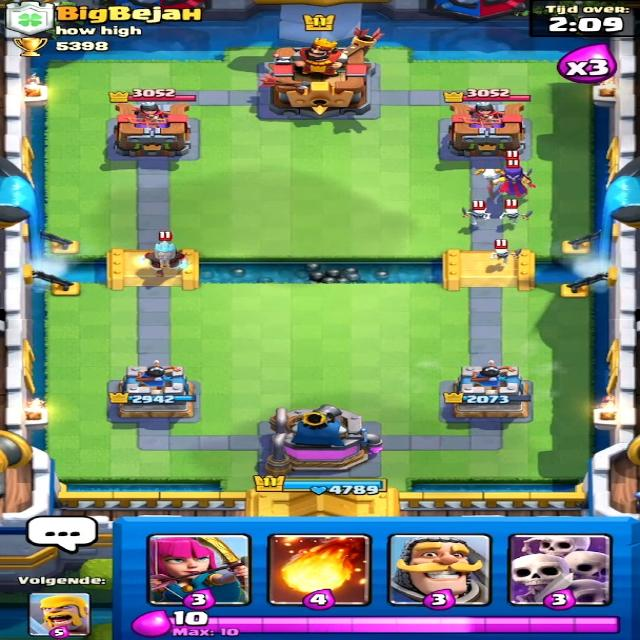Enemy_Ice_Wizard_Troop: (138, 240, 192, 278)
Enemy_Skeleton_Troop: (462, 205, 493, 225), (498, 207, 532, 224), (493, 245, 520, 264)
Enemy_Witch_Troop: (470, 161, 534, 204)
Fireball_Card: (268, 536, 369, 603)
